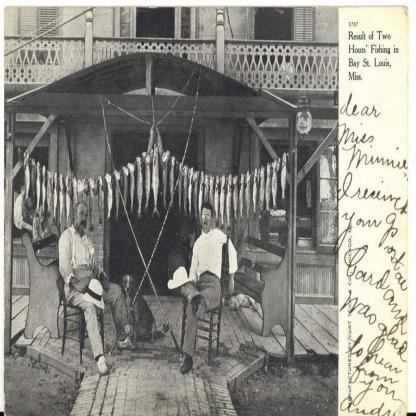face: (77, 208, 89, 230), (202, 210, 212, 231), (40, 207, 46, 218), (22, 185, 26, 196)
